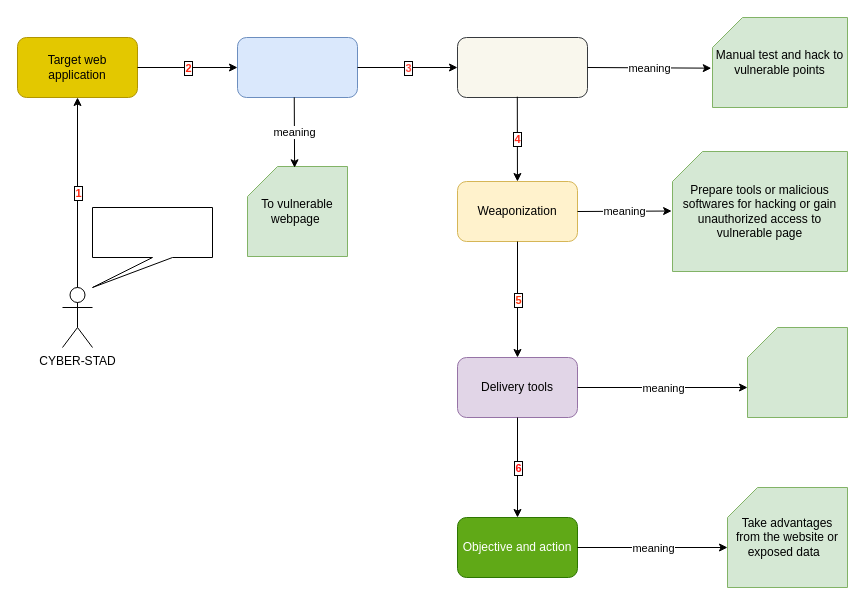
Image size: 865x605. Some labels were removed from this diagram. Here are the shapes that lost their labels. From the top down, the centre of each, then its label:
At [297,67]: "Start reconnaissance".
At [522,67]: "Manual exploit to vulnerable point of web application".
At [152,247]: "Look up for target".
At [797,372]: "Use tools to hack or exploit".
